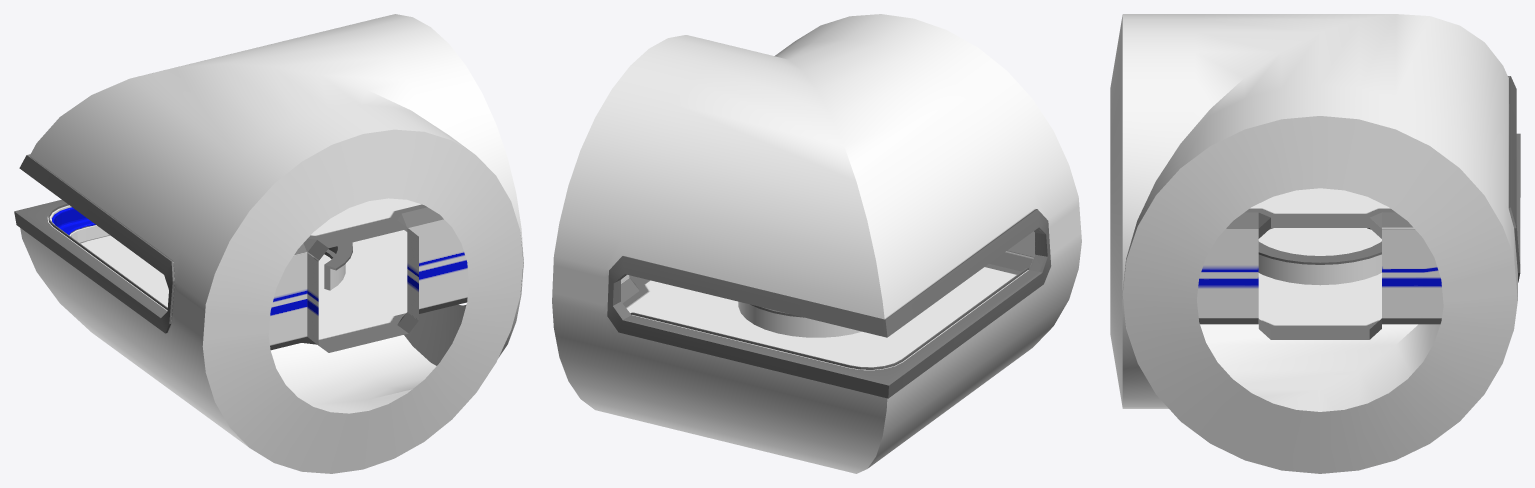
File: HabBar.fbx
3 renders of one model, left to right at view 1: azimuth 30°, elevation 25°; view 2: azimuth 150°, elevation 25°; view 3: azimuth 270°, elevation 25°, orthographic. The views are drawn at different scales.
Visible parts, largest first — view 1: HabBar, Sillon, MesaBar; view 2: HabBar, MesaBar, Sillon; view 3: HabBar, MesaBar.
Part boxes in pixels (x1,y1,x2,y2): HabBar: [14, 14, 523, 473]; Sillon: [47, 203, 167, 310]; MesaBar: [324, 242, 352, 290]; HabBar: [552, 14, 1081, 473]; MesaBar: [738, 301, 861, 337]; Sillon: [630, 267, 1029, 370]; HabBar: [1110, 14, 1520, 473]; MesaBar: [1258, 228, 1381, 285].
Bounding box in the file's own units: 3323 × 3201 × 3323.
3 materials, 3 textured.
